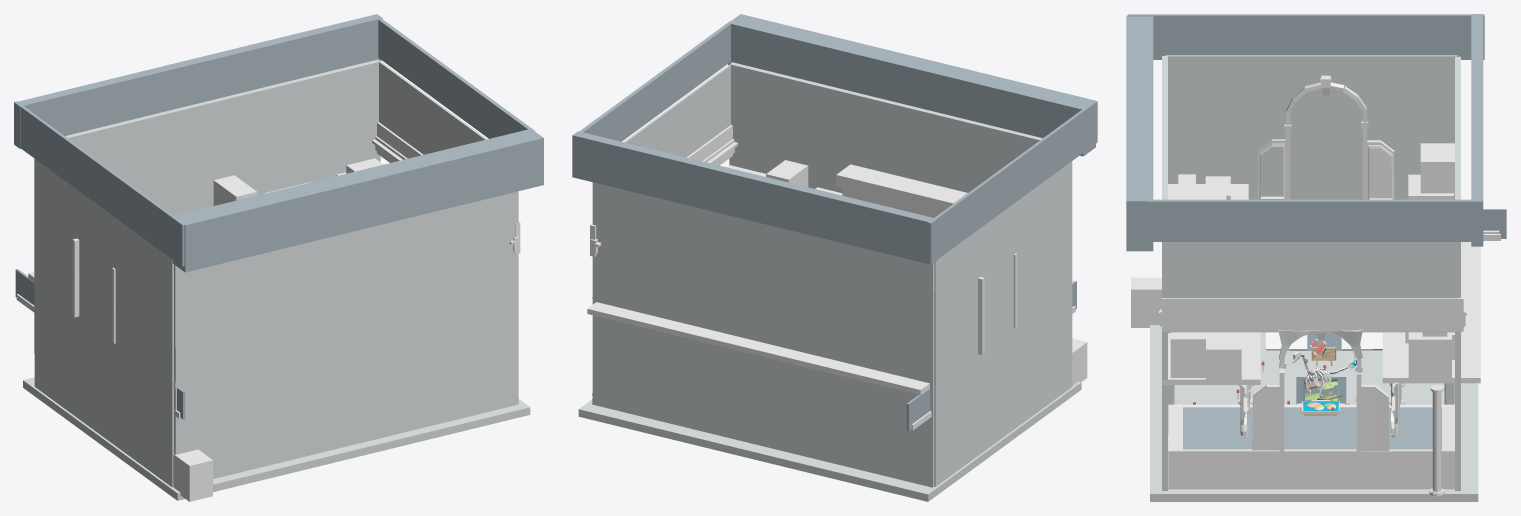
File: museum.glb
The picture shows the model from 3 angles, left to right: view 1: azimuth 30°, elevation 25°; view 2: azimuth 150°, elevation 25°; view 3: azimuth 270°, elevation 25°; orthographic projection. The views are drawn at different scales.
Parts seen in each view (by area): view 1: group853941034, group395243803, group156993652, group1953011220, group1925979723, floor, group689543294, group436196863, group793193501, group149663869, group1612683714, group1676229897 (+1 smaller); view 2: group156993652, group395243803, group853941034, group1925979723, group1953011220, floor, group689543294, group436196863, group793193501, group1152385336, group149663869, group736884139 (+3 smaller); view 3: floor, group395243803, group793193501, group436196863, group689543294, group1676229897, group1953011220, group391671949, group149663869, group1925979723, group1455548625, group156993652 (+12 smaller).
Part boxes in pixels (x1,y1,x2,y2): group853941034: [174, 191, 518, 478]; group395243803: [34, 159, 173, 487]; group156993652: [34, 59, 380, 353]; group1953011220: [172, 129, 543, 272]; group1925979723: [14, 14, 382, 148]; floor: [23, 272, 530, 501]; group689543294: [14, 101, 185, 266]; group436196863: [378, 19, 534, 138]; group793193501: [379, 61, 486, 154]; group149663869: [72, 238, 115, 343]; group1612683714: [213, 175, 257, 205]; group1676229897: [377, 122, 520, 254]; group156993652: [592, 182, 934, 487]; group395243803: [934, 161, 1072, 486]; group853941034: [729, 62, 1042, 192]; group1925979723: [572, 131, 937, 264]; group1953011220: [728, 14, 1095, 156]; floor: [578, 302, 1087, 501]; group689543294: [927, 100, 1097, 264]; group436196863: [579, 21, 732, 141]; group793193501: [623, 65, 730, 157]; group1152385336: [836, 164, 967, 211]; group149663869: [978, 253, 1017, 354]; group736884139: [842, 188, 941, 217]; floor: [1131, 242, 1480, 501]; group395243803: [1165, 55, 1457, 199]; group793193501: [1164, 242, 1457, 332]; group436196863: [1148, 199, 1471, 241]; group689543294: [1127, 14, 1484, 59]; group1676229897: [1162, 296, 1463, 331]; group1953011220: [1126, 15, 1153, 251]; group391671949: [1252, 332, 1389, 454]; group149663869: [1258, 75, 1394, 199]; group1925979723: [1471, 14, 1483, 246]; group1455548625: [1408, 332, 1451, 380]; group156993652: [1455, 56, 1460, 490].
Bounding box in the file's own units: 9.61 × 7.19 × 8.2.
